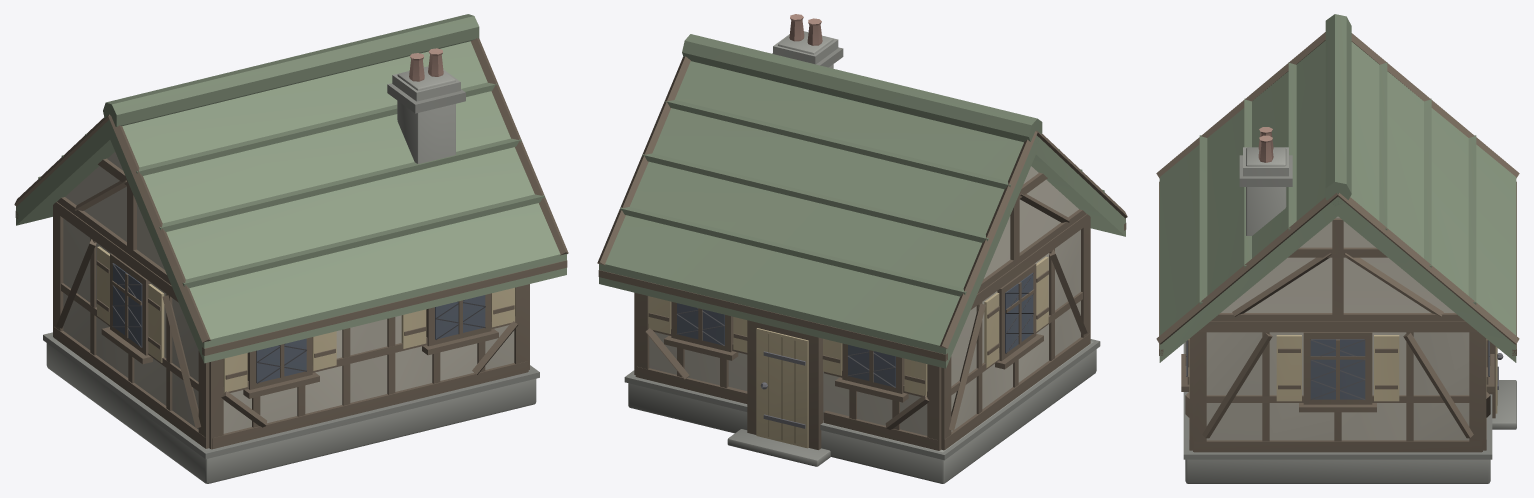
Rendered from cottage_green.gltf.
3 renders of one model, left to right at view 1: azimuth 30°, elevation 25°; view 2: azimuth 150°, elevation 25°; view 3: azimuth 270°, elevation 25°, orthographic. The views are drawn at different scales.
Parts seen in each view (by area): view 1: Body; view 2: Body; view 3: Body.
Boxes of the visible parts, <box> form: Body: <box>14,14,568,483</box>; Body: <box>597,14,1127,483</box>; Body: <box>1156,14,1519,483</box>.
Size of the model in its own units: 6.97 by 6.12 by 6.32.
